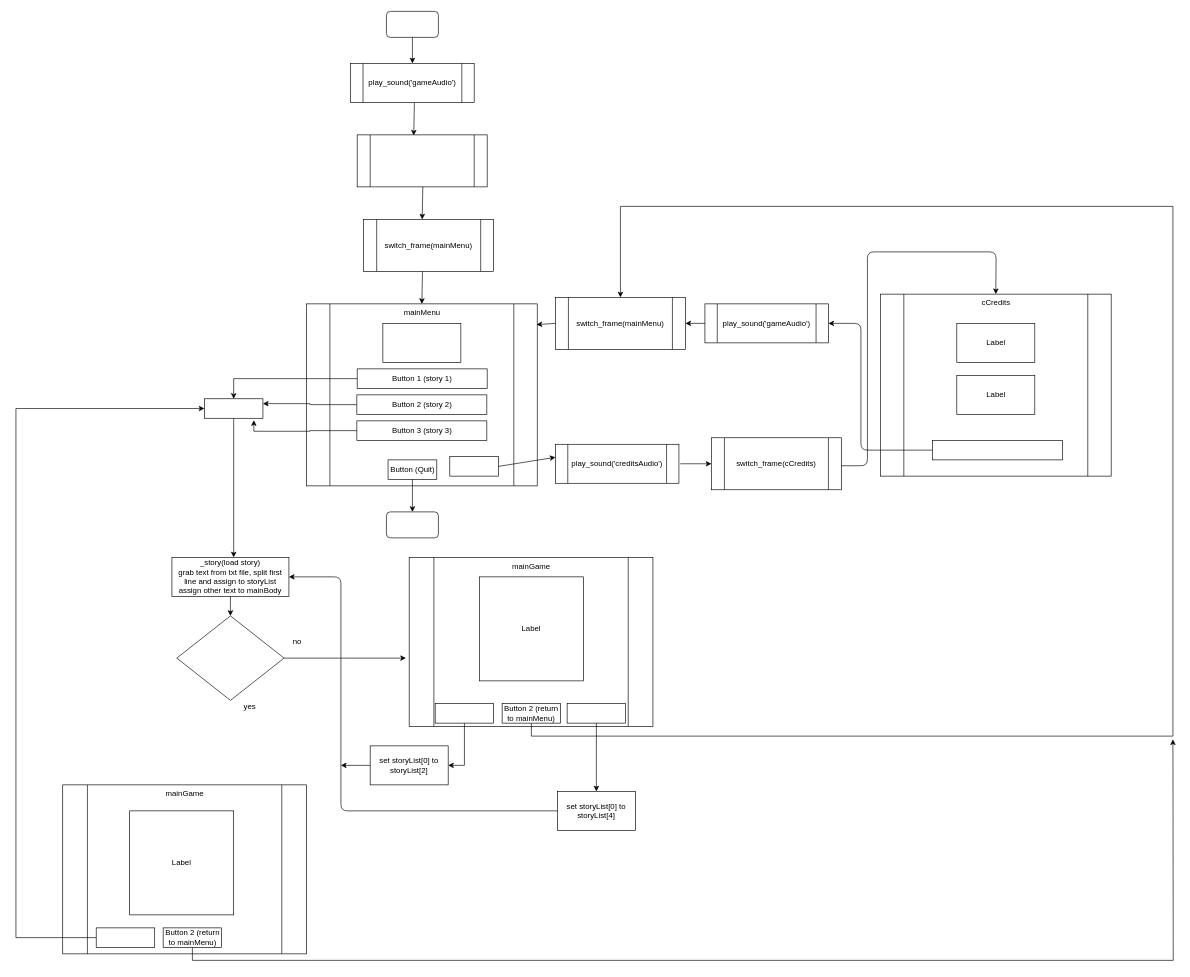
Some shapes in this 1190 by 977 pixel diagram are drawn without their labels. Here are the shapes that lost their labels. From the top down, the centre of each, then its label:
point (412, 24): Start
point (422, 160): gameScreen()
point (421, 342): img file
point (233, 408): open story # txt file
point (474, 466): Button (Credits)
point (997, 450): Button 1 (return to mainMenu)
point (412, 524): Stop
point (230, 657): is storyList[2] equal to storyList [1]?
point (464, 713): Button 1 (option 1)
point (596, 713): Button 3 (option 2)
point (125, 937): Button 1 (Restart Story)
